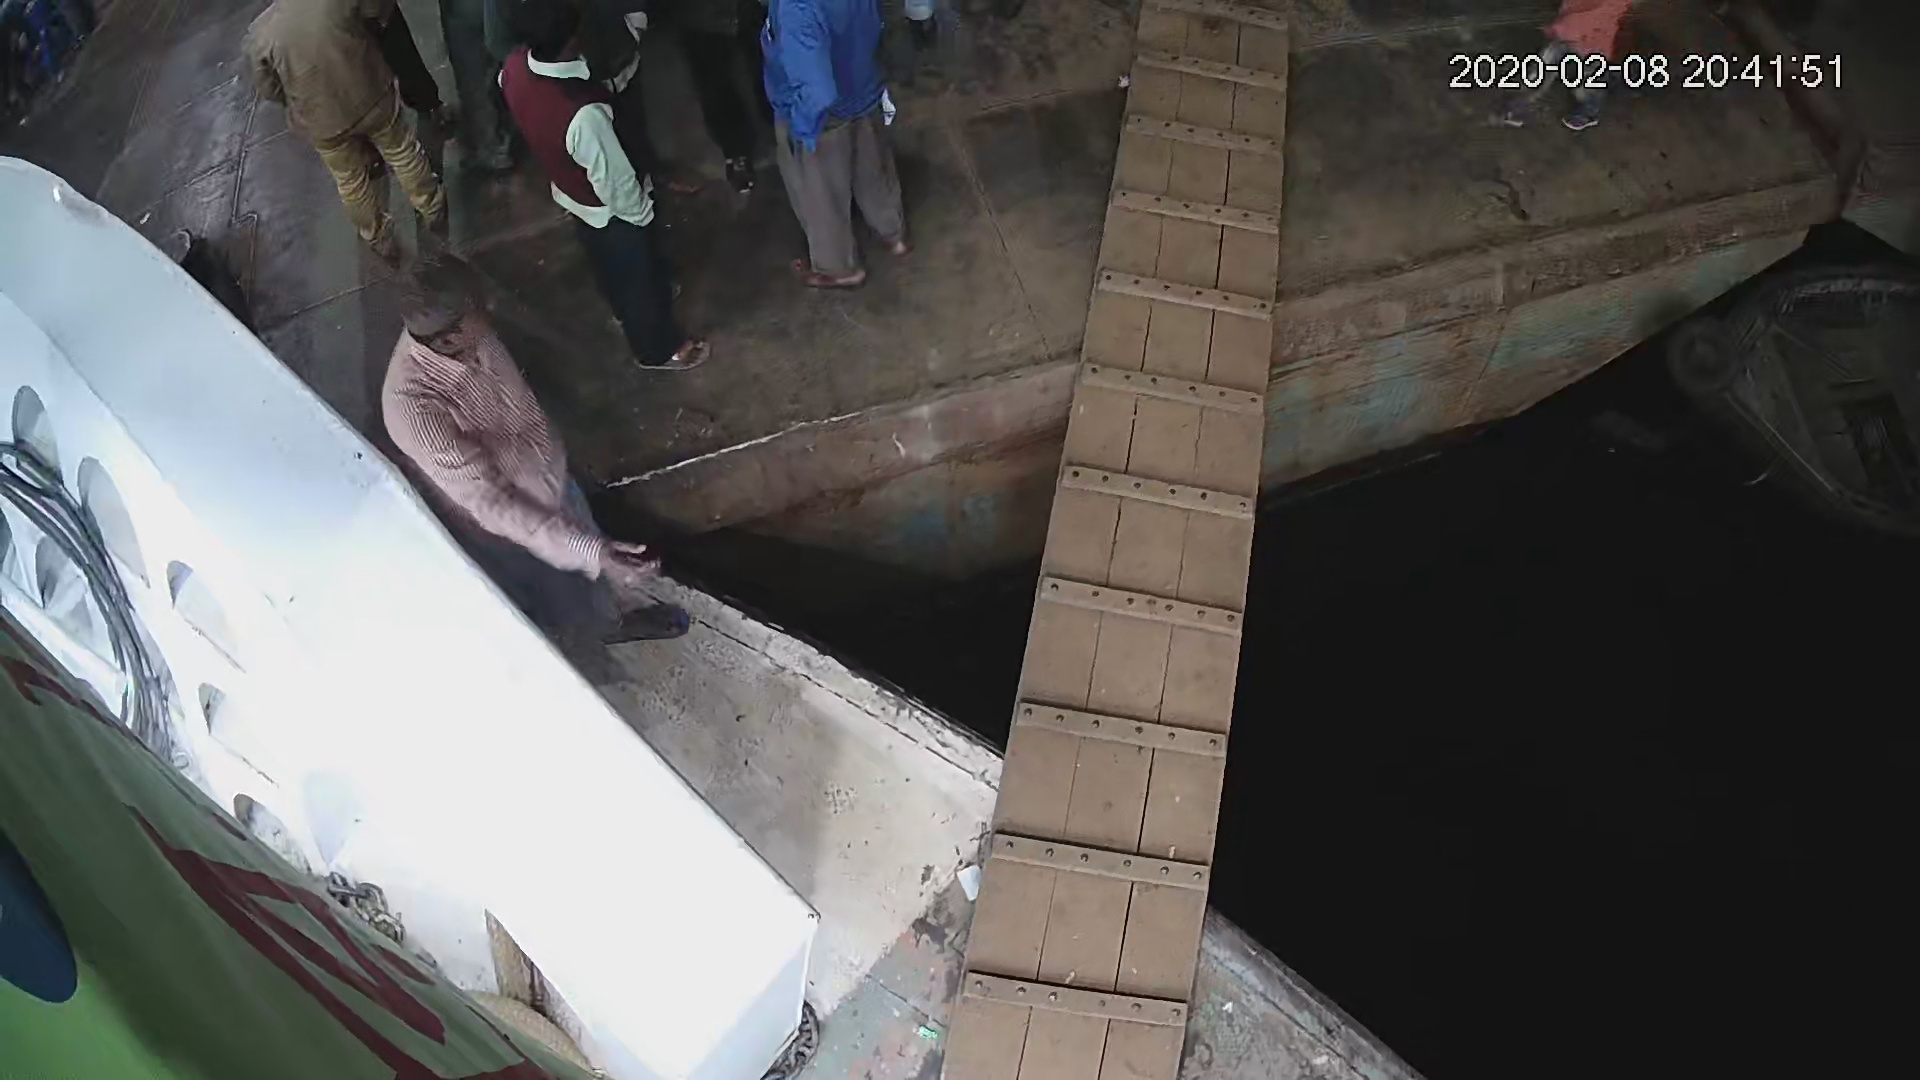person: (367, 247, 692, 695), (483, 11, 715, 378), (238, 1, 452, 251), (758, 1, 917, 297)
